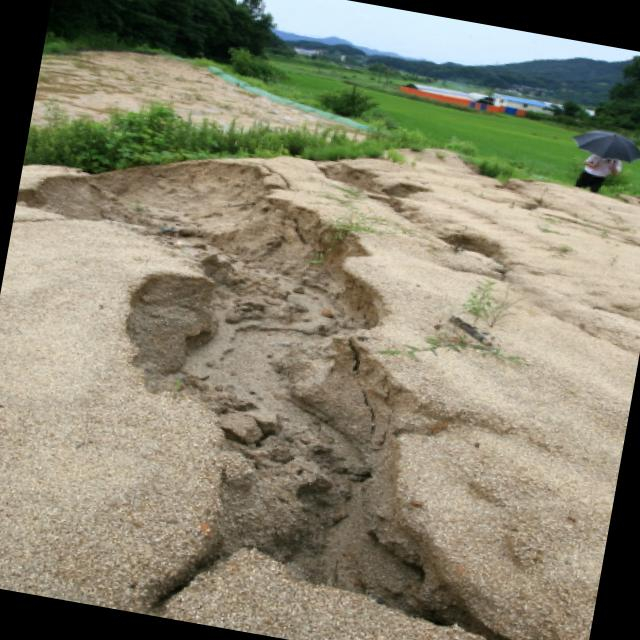grass: (23, 50, 587, 184), (600, 158, 640, 196)
red-sand: (0, 149, 640, 640), (31, 51, 319, 125)
